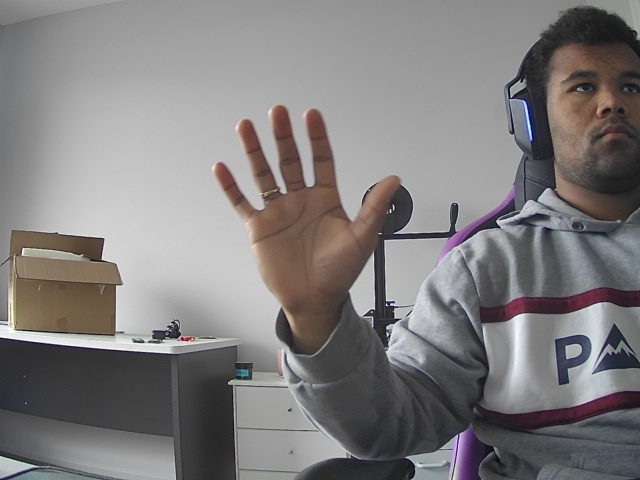Hello: (200, 86, 410, 340)
